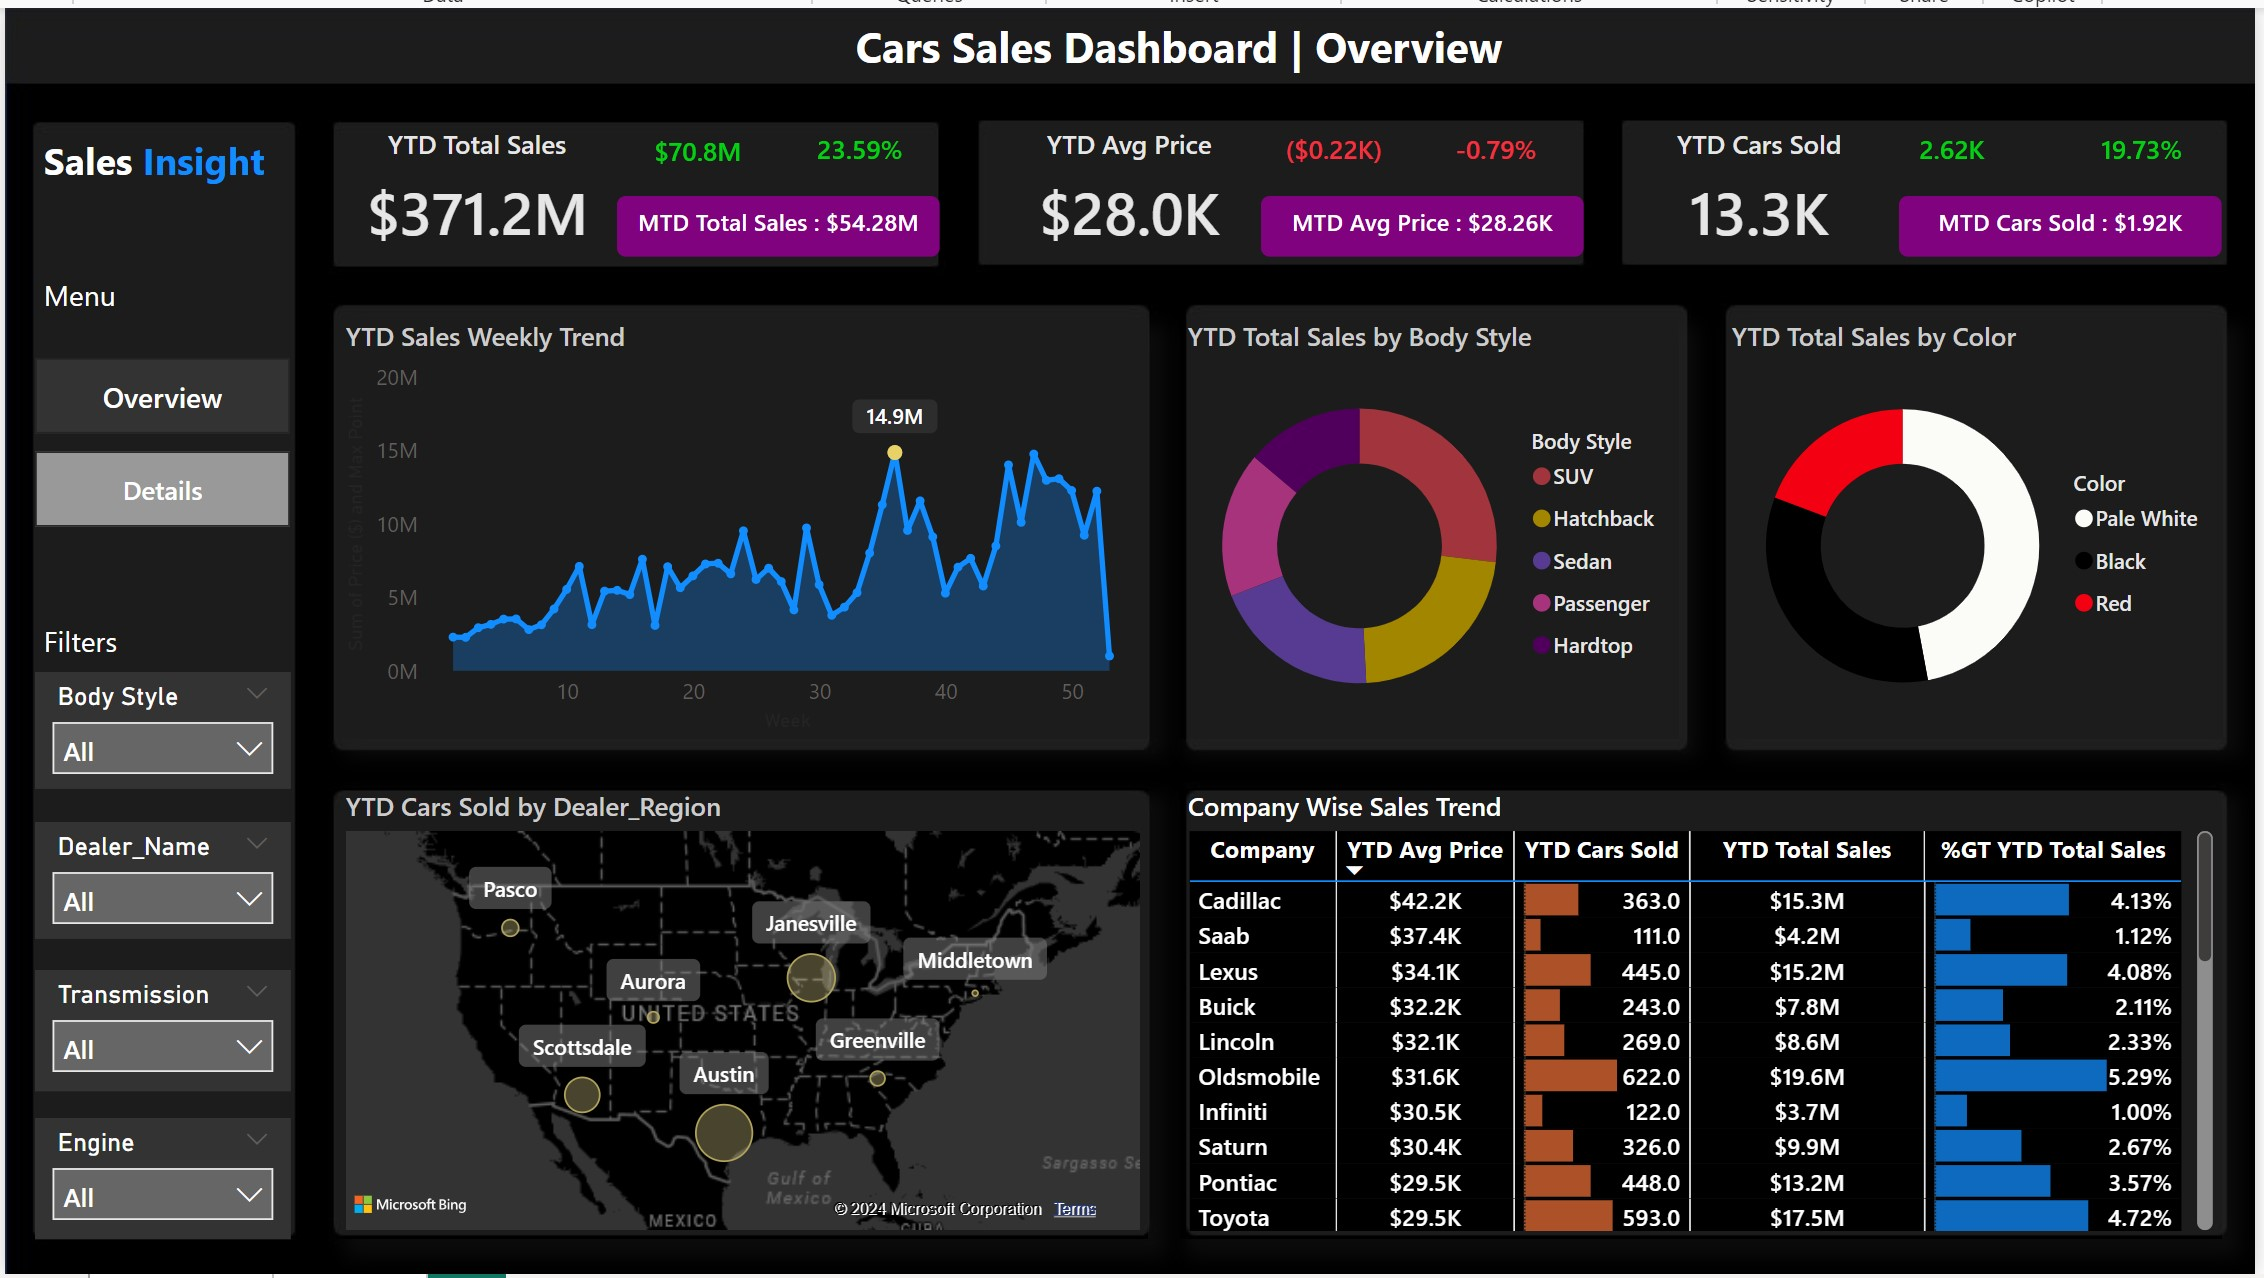

This screenshot's page, from the dashboard's own definition file:
{"tool":"powerbi","page":{"name":"Overview","canvas":[1280,720],"ordinal":0},"visuals":[{"type":"card","title":"YTD Total Sales","fields":{"Values":["car_data.YTD Total Sales"]},"box":[188.7,67.6,159.4,79],"z":0},{"type":"card","fields":{"Values":["car_data.Sales Difference"]},"box":[348.3,66.7,91.7,33.3],"z":1000},{"type":"card","fields":{"Values":["car_data.YoY Sales Growth"]},"box":[439.8,66.3,91.8,33.1],"z":2000},{"type":"card","fields":{"Values":["car_data.MTD KPI"]},"box":[348,107.1,183.6,34.4],"z":3000},{"type":"card","title":"YTD Avg Price","fields":{"Values":["car_data.YTD Avg Price"]},"box":[559.7,67.6,159.4,79],"z":4000},{"type":"card","fields":{"Values":["car_data.Avg Price Difference"]},"box":[710.1,66.3,91.8,33.1],"z":5000},{"type":"card","fields":{"Values":["car_data.YoY Avg Price Growth"]},"box":[801.9,66.3,91.8,33.1],"z":6000},{"type":"card","fields":{"Values":["car_data.MTD Avg Price KPI"]},"box":[713.9,107.1,183.6,34.4],"z":7000},{"type":"card","title":"YTD Cars Sold","fields":{"Values":["car_data.YTD Cars Sold"]},"box":[917.9,67.6,159.4,79],"z":8000},{"type":"card","fields":{"Values":["car_data.Cars Sold Diff"]},"box":[1060.7,66.3,91.8,33.1],"z":9000},{"type":"card","fields":{"Values":["car_data.YoY Car Sold Growth"]},"box":[1169.1,66.3,91.8,33.1],"z":10000},{"type":"card","fields":{"Values":["car_data.MTD Cars Sold KPI"]},"box":[1077.3,107.1,183.6,34.4],"z":11000},{"type":"areaChart","title":"YTD Sales Weekly Trend","fields":{"Category":["Calender Table.Week"],"Y":["Sum(car_data.Price ($))","car_data.Max Point"]},"box":[188.7,175.9,461.5,239.7],"z":12000},{"type":"donutChart","fields":{"Category":["car_data.Body Style"],"Y":["car_data.YTD Total Sales"]},"box":[668,175.9,284.3,239.7],"z":13000},{"type":"donutChart","fields":{"Category":["car_data.Color"],"Y":["car_data.YTD Total Sales"]},"box":[976.6,175.9,284.3,239.7],"z":14000},{"type":"map","fields":{"Category":["car_data.Dealer_Region"],"Size":["car_data.YTD Cars Sold"]},"box":[188.7,443.7,461.5,256.3],"z":15000},{"type":"tableEx","title":"Company Wise Sales Trend","fields":{"Values":["car_data.Company","car_data.YTD Avg Price","car_data.YTD Cars Sold","car_data.YTD Total Sales1","car_data.YTD Total Sales"]},"box":[668,443.7,592.8,256.3],"z":16000},{"type":"textbox","box":[489.6,0,447.5,51],"z":17000},{"type":"slicer","fields":{"Values":["car_data.Body Style"]},"box":[16.6,377.4,145.3,66.3],"z":18000},{"type":"slicer","fields":{"Values":["car_data.Dealer_Name"]},"box":[16.6,462.8,145.3,66.3],"z":19000},{"type":"slicer","fields":{"Values":["car_data.Transmission"]},"box":[16.6,546.9,145.3,68.8],"z":20000},{"type":"slicer","fields":{"Values":["car_data.Engine"]},"box":[16.6,631.1,145.3,68.8],"z":21000},{"type":"textbox","box":[16.6,67.6,145.3,39.5],"z":22000},{"type":"pageNavigator","box":[16.6,198.9,145.3,96.9],"z":23000},{"type":"textbox","box":[16.6,342.9,62.5,33.1],"z":23001},{"type":"textbox","box":[16.6,146.6,62.5,33.1],"z":23002}]}

Visuals, with their boxes on the page's 1280x720 design canvas (x1, y1, x2, y2). These are canvas units, not pixel positions in the 2264x1278 screenshot, which may show the page scaled, cropped or inside an application window:
"YTD Total Sales" card: x1=189 y1=68 x2=348 y2=147
card - car_data.Sales Difference: x1=348 y1=67 x2=440 y2=100
card - car_data.YoY Sales Growth: x1=440 y1=66 x2=532 y2=99
card - car_data.MTD KPI: x1=348 y1=107 x2=532 y2=142
"YTD Avg Price" card: x1=560 y1=68 x2=719 y2=147
card - car_data.Avg Price Difference: x1=710 y1=66 x2=802 y2=99
card - car_data.YoY Avg Price Growth: x1=802 y1=66 x2=894 y2=99
card - car_data.MTD Avg Price KPI: x1=714 y1=107 x2=898 y2=142
"YTD Cars Sold" card: x1=918 y1=68 x2=1077 y2=147
card - car_data.Cars Sold Diff: x1=1061 y1=66 x2=1152 y2=99
card - car_data.YoY Car Sold Growth: x1=1169 y1=66 x2=1261 y2=99
card - car_data.MTD Cars Sold KPI: x1=1077 y1=107 x2=1261 y2=142
"YTD Sales Weekly Trend" areaChart: x1=189 y1=176 x2=650 y2=416
donutChart - car_data.Body Style x car_data.YTD Total Sales: x1=668 y1=176 x2=952 y2=416
donutChart - car_data.Color x car_data.YTD Total Sales: x1=977 y1=176 x2=1261 y2=416
map - car_data.Dealer_Region x car_data.YTD Cars Sold: x1=189 y1=444 x2=650 y2=700
"Company Wise Sales Trend" tableEx: x1=668 y1=444 x2=1261 y2=700
textbox: x1=490 y1=0 x2=937 y2=51
slicer - car_data.Body Style: x1=17 y1=377 x2=162 y2=444
slicer - car_data.Dealer_Name: x1=17 y1=463 x2=162 y2=529
slicer - car_data.Transmission: x1=17 y1=547 x2=162 y2=616
slicer - car_data.Engine: x1=17 y1=631 x2=162 y2=700
textbox: x1=17 y1=68 x2=162 y2=107
pageNavigator: x1=17 y1=199 x2=162 y2=296
textbox: x1=17 y1=343 x2=79 y2=376
textbox: x1=17 y1=147 x2=79 y2=180
